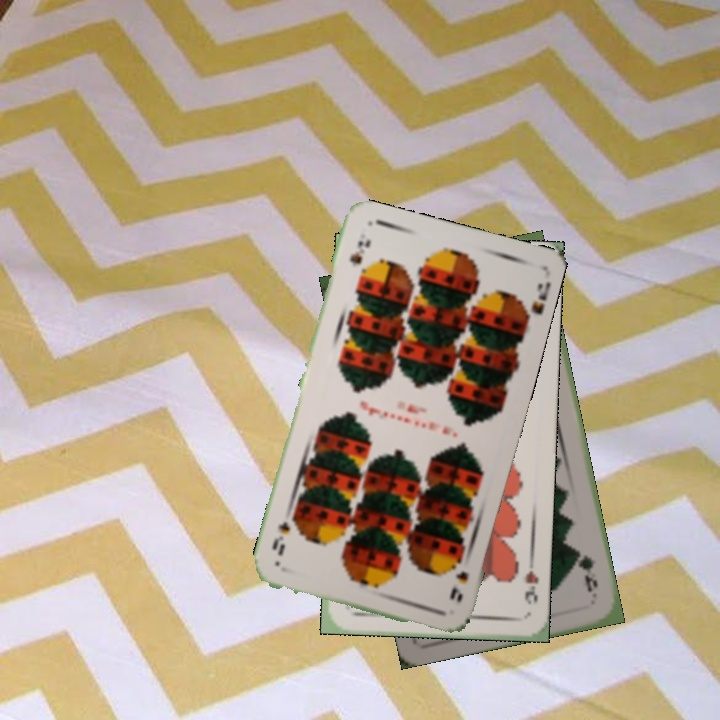G9: (574, 546, 601, 595)
H9: (521, 556, 542, 607)
S9: (445, 551, 471, 606), (345, 235, 372, 268)
